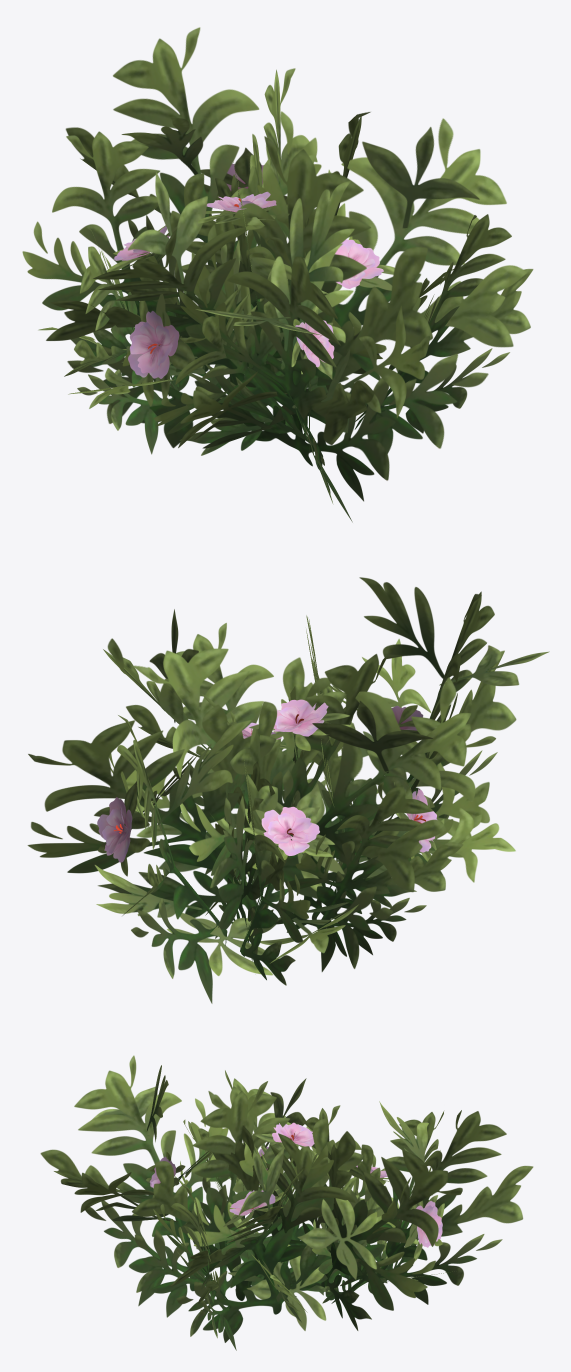
File: flower_bush_a.glb
3 views of the same model, one above another, from view 1: azimuth 30°, elevation 25°; view 2: azimuth 150°, elevation 25°; view 3: azimuth 270°, elevation 25° (orthographic). The views are drawn at different scales.
Parts seen in each view (by area): view 1: Plane.008_w; view 2: Plane.008_w; view 3: Plane.008_w.
Boxes of the visible parts, <box> form: Plane.008_w: <box>22,27,533,522</box>; Plane.008_w: <box>27,577,549,1003</box>; Plane.008_w: <box>40,1055,533,1350</box>.
Size of the model in its own units: 1.64 by 1.2 by 2.34.
1 material, 1 textured.
